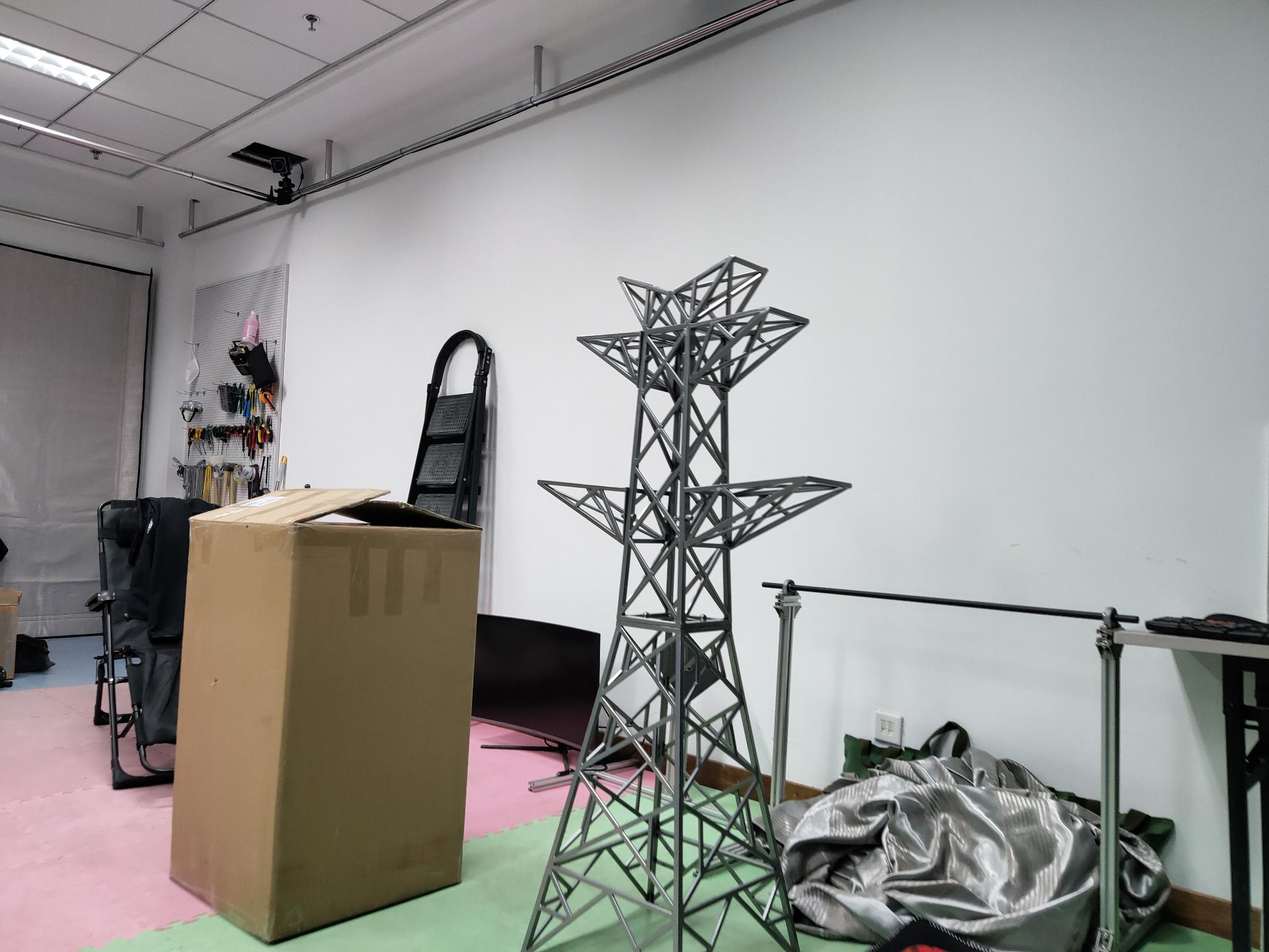tower: (534, 253, 844, 952)
